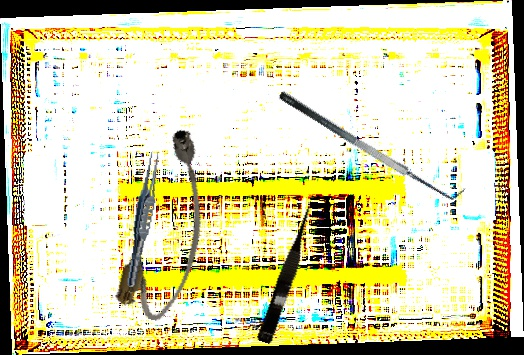Cannula: (111, 123, 229, 327)
Micro Scissor: (256, 201, 322, 346)
Spatula Surgical: (277, 75, 466, 212)
Tissue Forceps: (123, 148, 164, 289)
